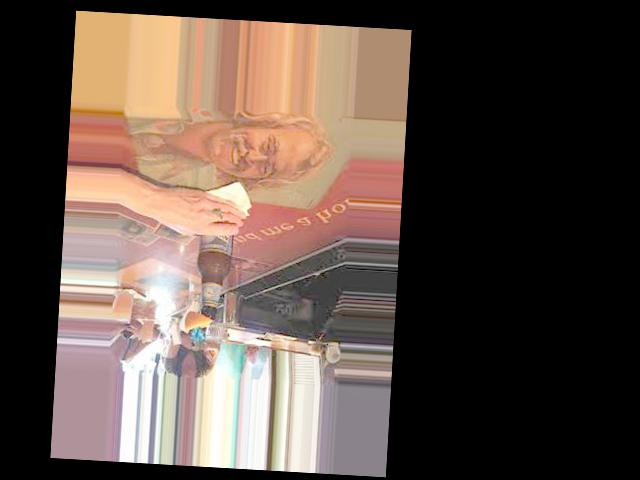beer: (196, 197, 237, 322)
